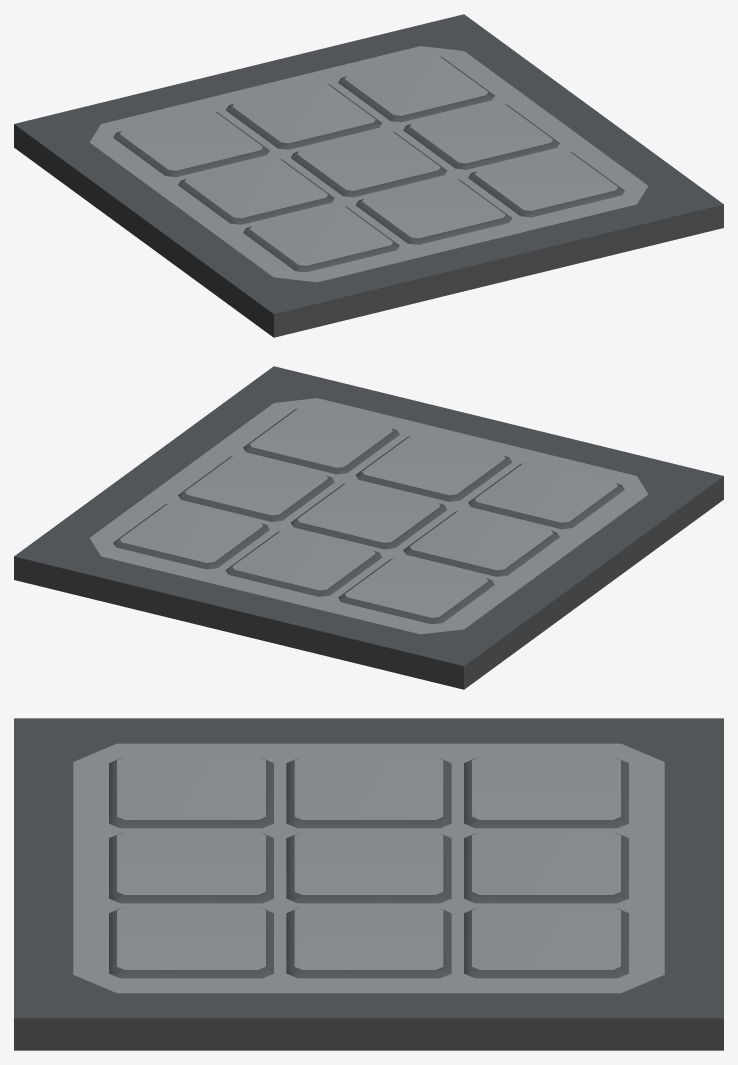
Rendered from Platform_008.glb.
3 renders of one model, top to bottom at view 1: azimuth 30°, elevation 25°; view 2: azimuth 150°, elevation 25°; view 3: azimuth 270°, elevation 25°, orthographic. The views are drawn at different scales.
Parts seen in each view (by area): view 1: Platform_008; view 2: Platform_008; view 3: Platform_008.
Boxes of the visible parts, box(x1,y1,x2,y2) form: Platform_008: box(14, 14, 723, 337); Platform_008: box(14, 366, 723, 689); Platform_008: box(14, 718, 723, 1050).
Bounding box in the file's own units: 4 × 0.2618 × 4.
1 material, 1 textured.
